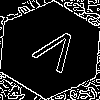V: (25, 25, 84, 81)
